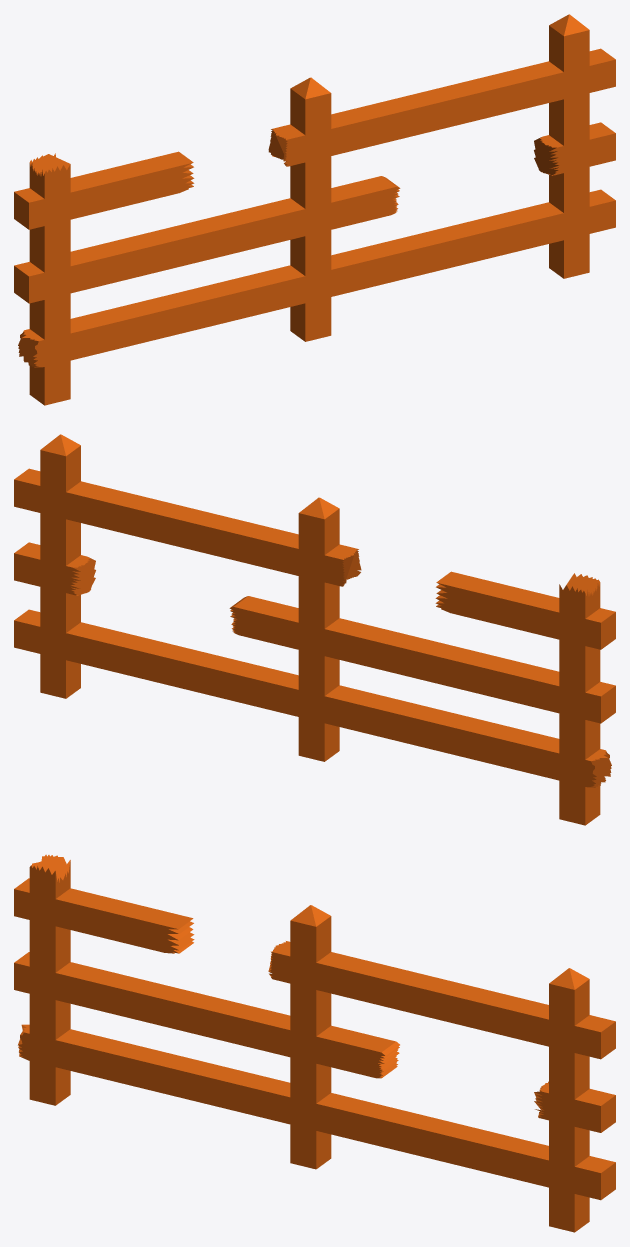
File: cerca1.fbx
3 views of the same model, one above another, from view 1: azimuth 30°, elevation 25°; view 2: azimuth 150°, elevation 25°; view 3: azimuth 330°, elevation 25° (orthographic).
Visible parts, largest first — view 1: Cubo.001; view 2: Cubo.001; view 3: Cubo.001.
Boxes of the visible parts, box(x1,y1,x2,y2) form: Cubo.001: box(14, 14, 615, 405); Cubo.001: box(14, 434, 615, 825); Cubo.001: box(14, 854, 615, 1232).
Bounding box in the file's own units: 4530 × 1884 × 200.
